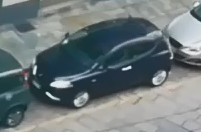Car: (25, 12, 176, 110)
